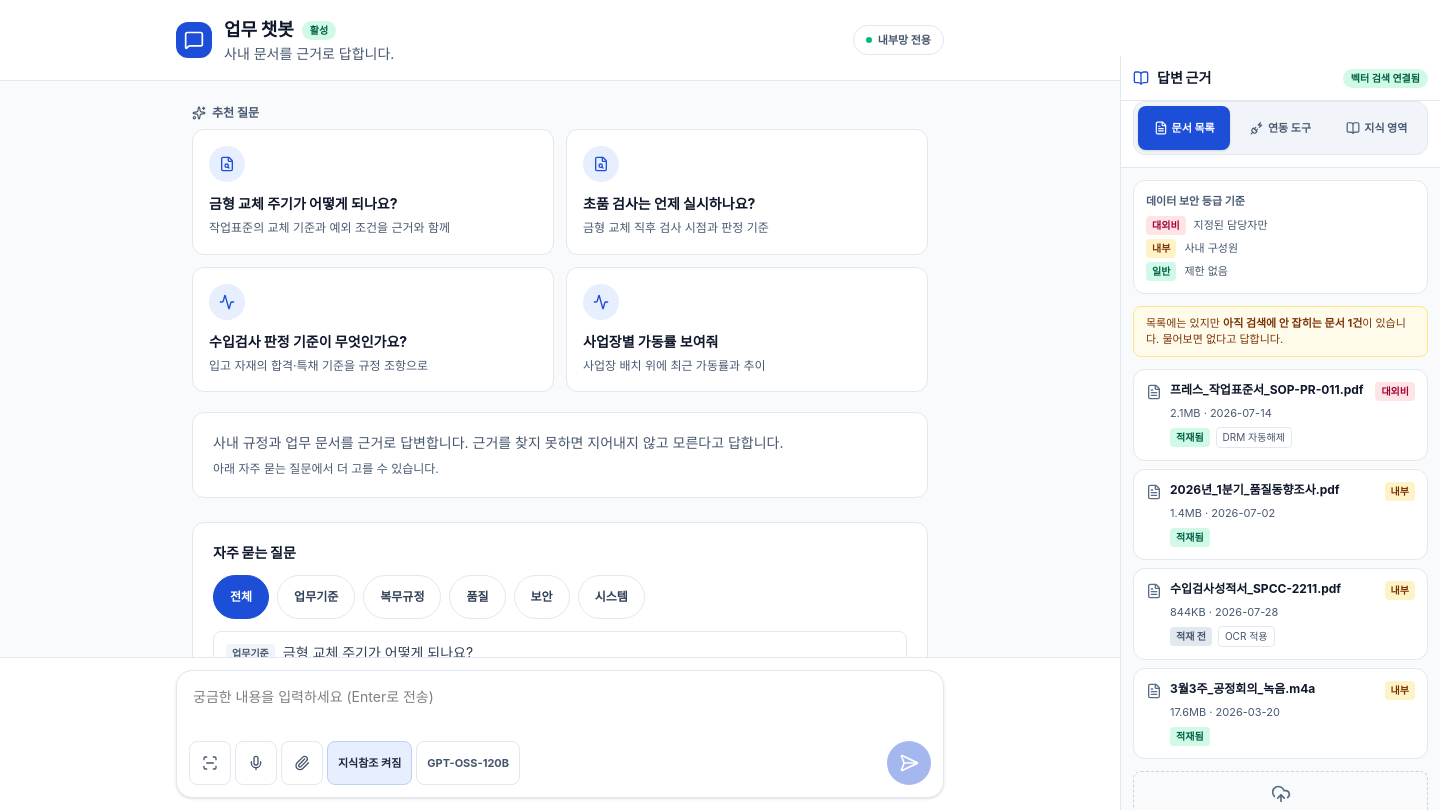
it: ChatPage › 모르는 질문은 지어내지 않고 근거 없음을 표시한다
Type "사내 동호회 지원금 얼마야" into the text box named "질문 입력" at (560, 707), box x1=185 y1=679 x2=935 y2=735
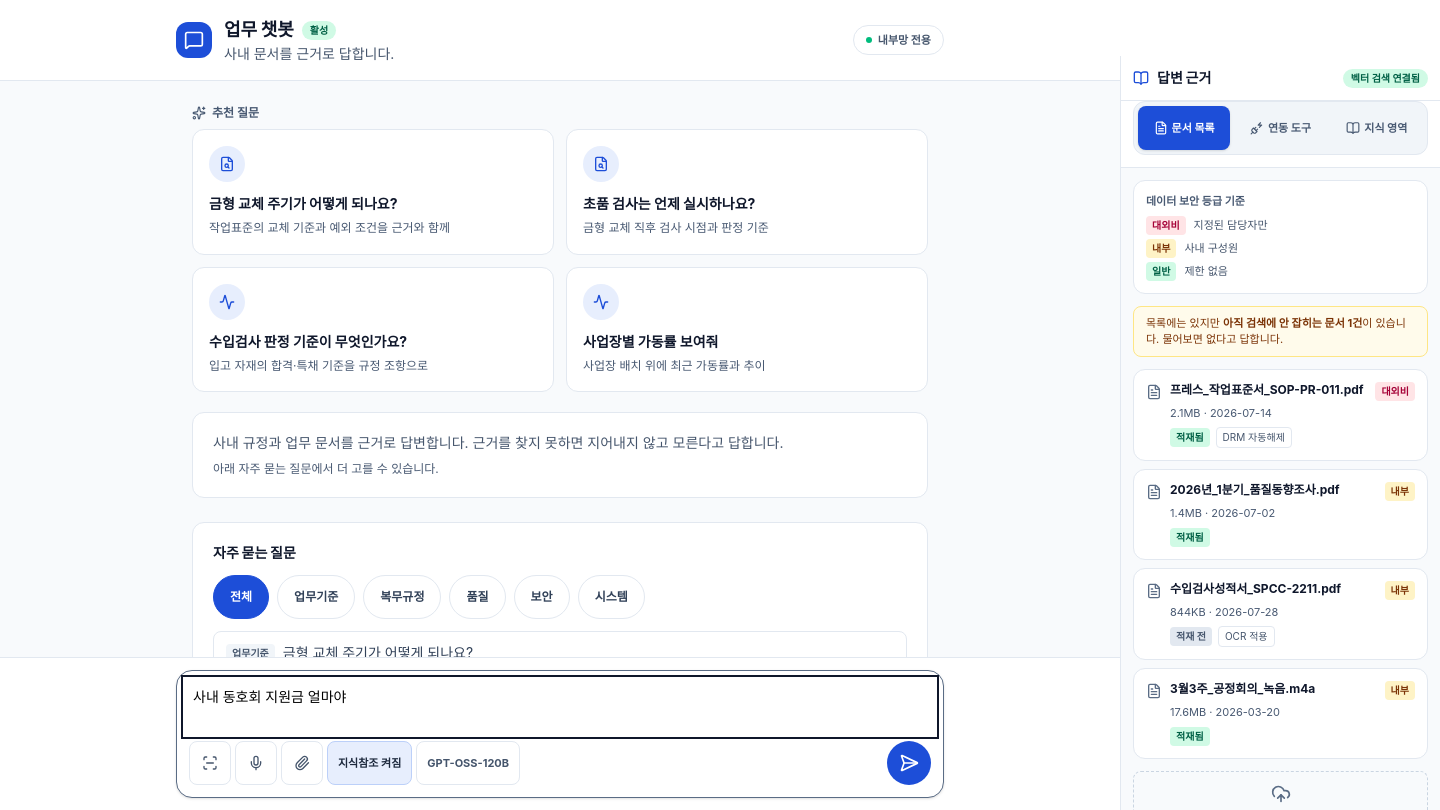
Click the button named "전송" at (909, 763), box x1=887 y1=741 x2=931 y2=785
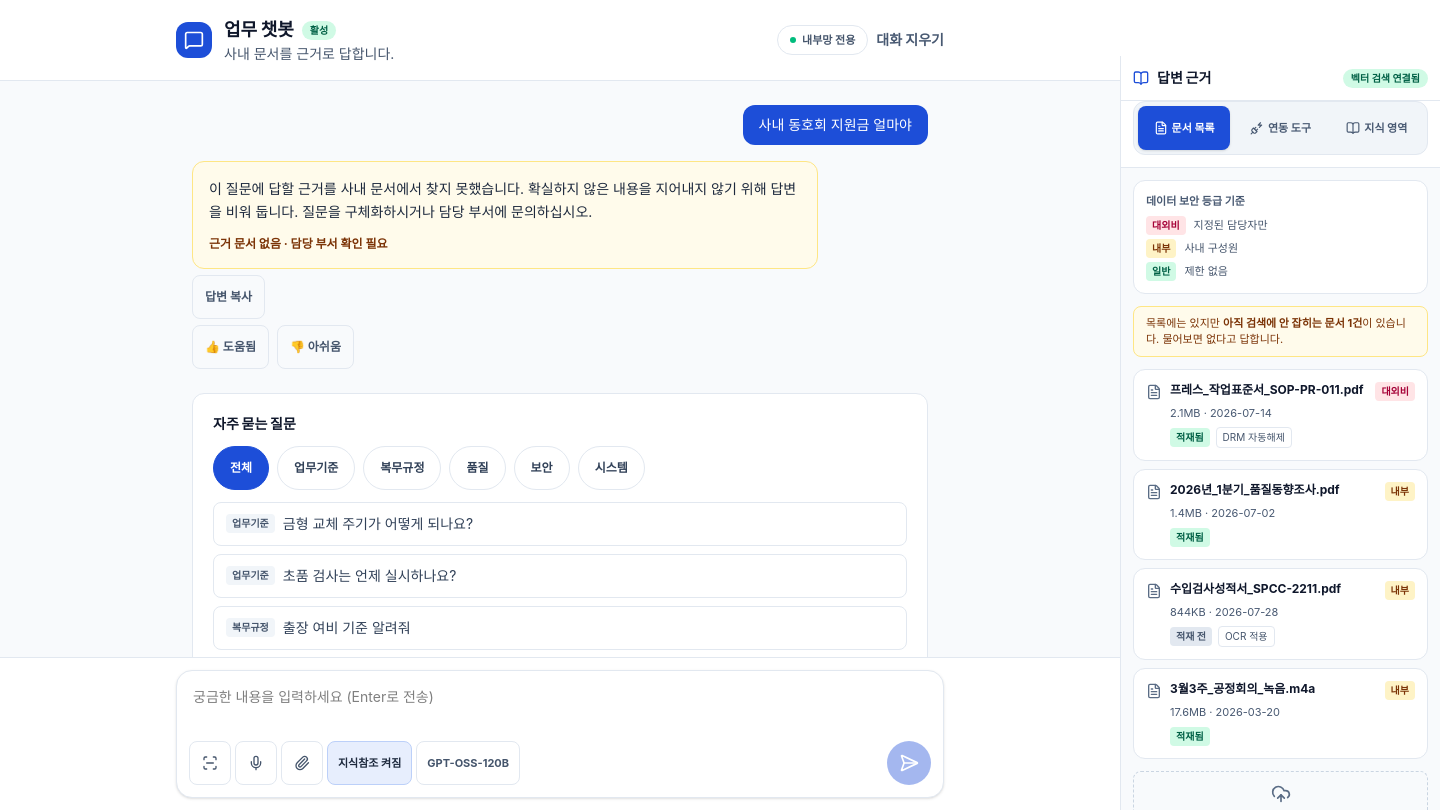
Expected: the text "지어내지 않기 위해" is shown, x1=209 y1=180 x2=796 y2=220
Expected: the text "근거 문서 없음 · 담당 부서 확인 필요" is shown, x1=209 y1=236 x2=388 y2=250
